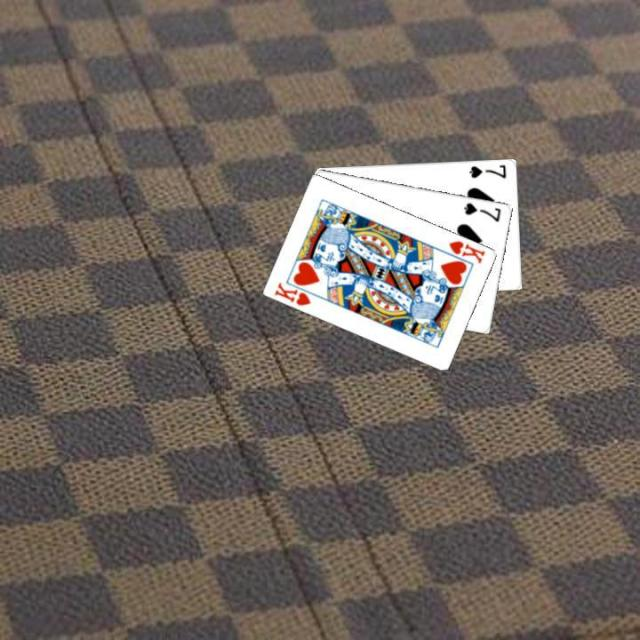7S: (461, 198, 503, 223), (466, 160, 508, 180)
KH: (271, 278, 313, 308), (445, 236, 487, 265)
